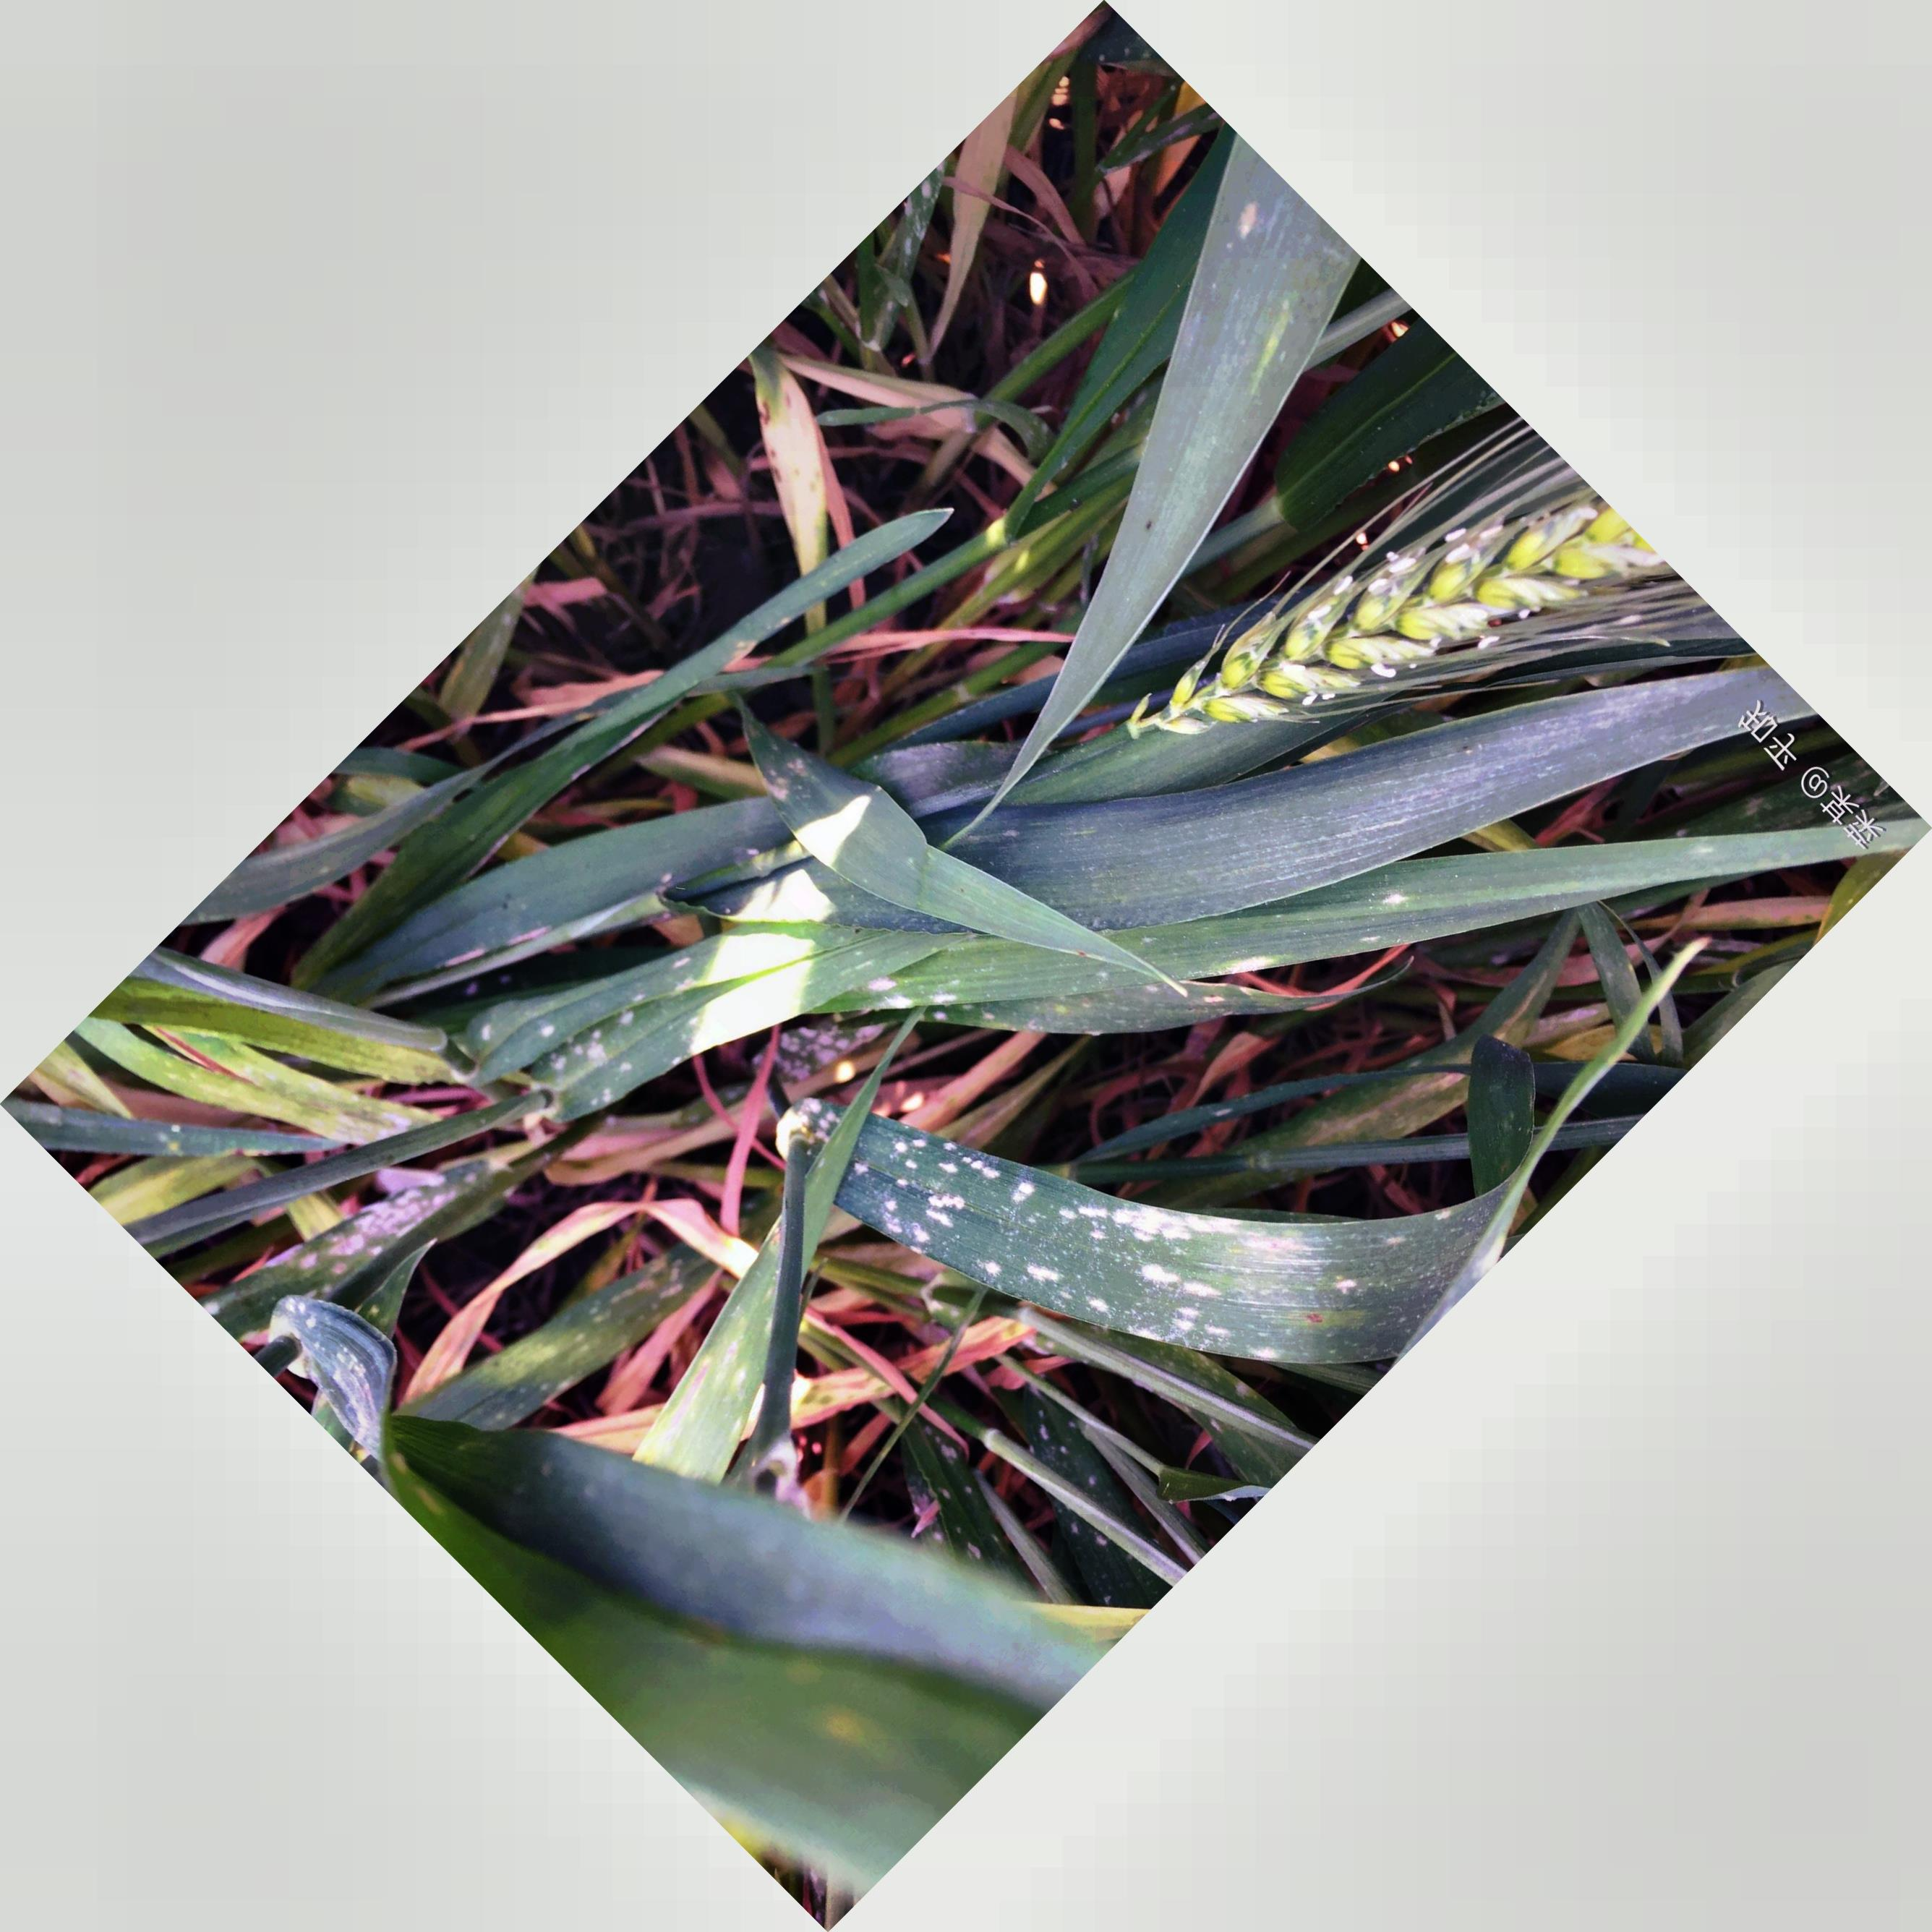Powdery Mildew: (824, 1123, 1341, 1378)
